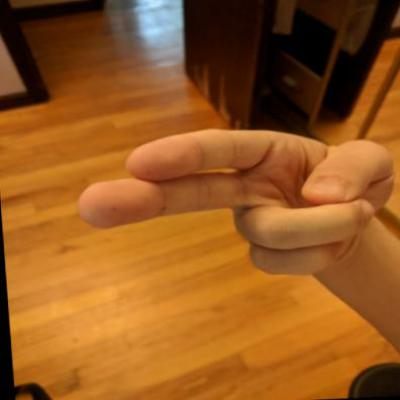hand: (64, 113, 399, 292)
